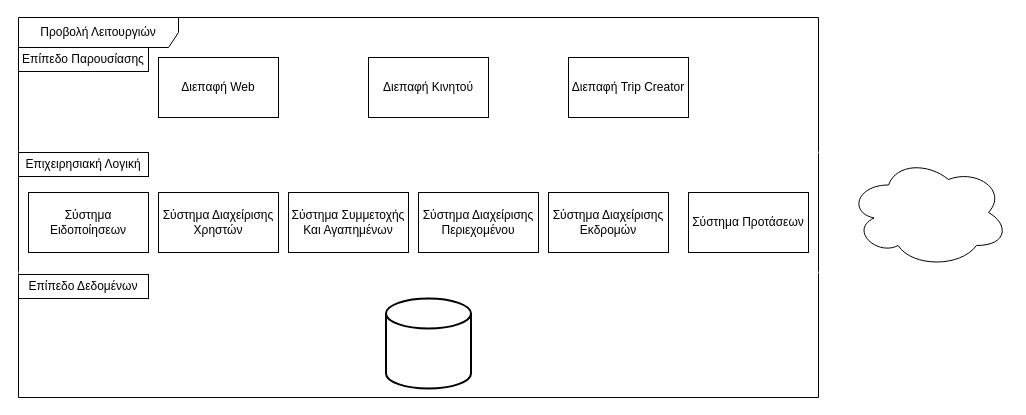
Some shapes in this 1026 by 415 pixel diagram are drawn without their labels. The centre of each missing label's shape, as x and y in pixels:
Βάση Δεδομένων: the point at 428,343
Εξωτερικό Σύστημα Παροχής Βίντεο: the point at 928,212
